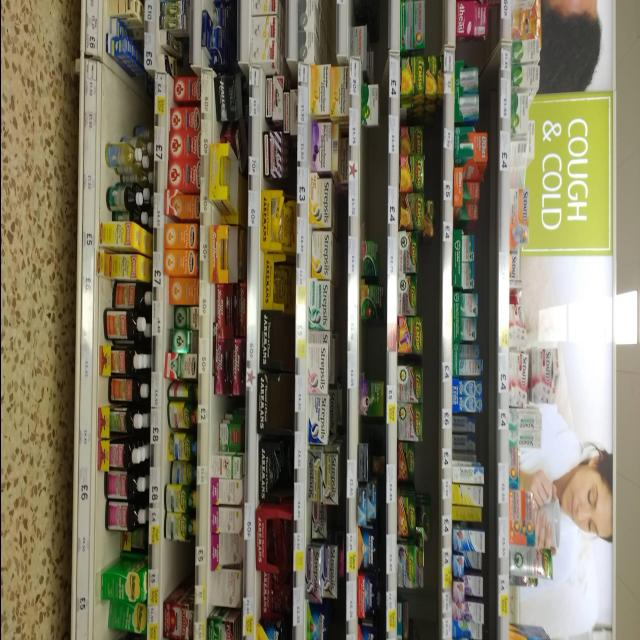empty_space: (359, 129, 389, 231), (103, 84, 151, 131), (164, 541, 192, 584), (359, 320, 381, 368), (510, 588, 536, 620), (95, 534, 125, 561), (463, 42, 481, 58)
